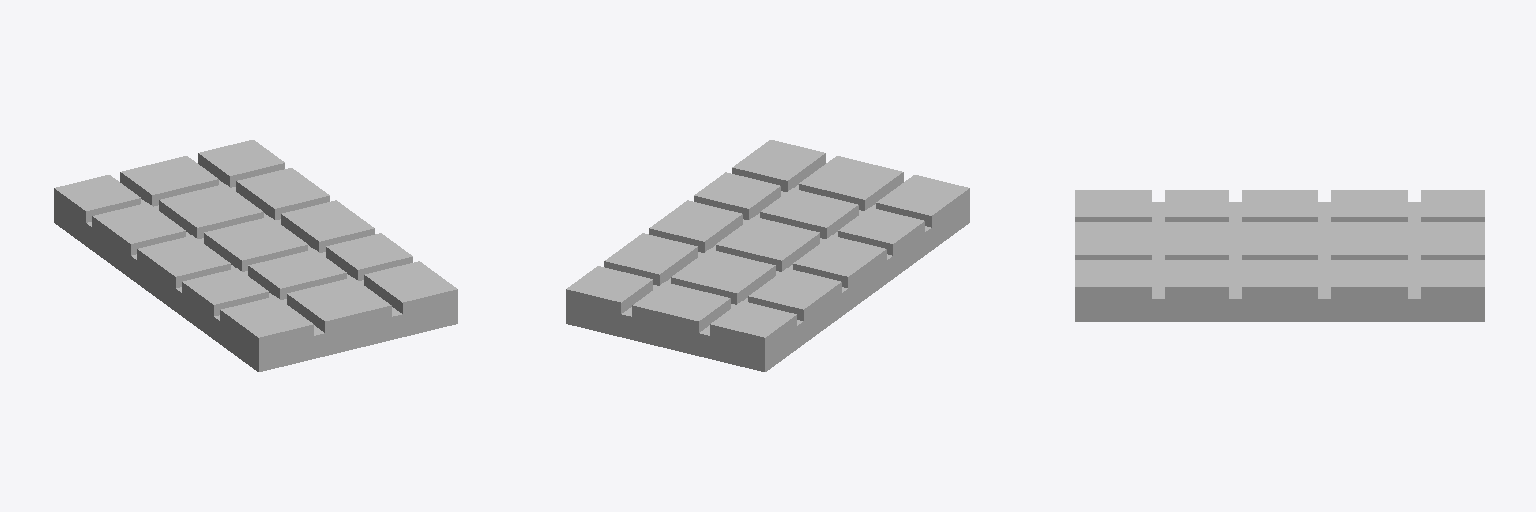
Rendered from Chocolate.obj.
3 renders of one model, left to right at view 1: azimuth 30°, elevation 25°; view 2: azimuth 150°, elevation 25°; view 3: azimuth 270°, elevation 25°, orthographic.
Parts seen in each view (by area): view 1: object 1; view 2: object 1; view 3: object 1.
Boxes of the visible parts, box(x1,y1,x2,y2) form: object 1: box(54, 140, 457, 371); object 1: box(566, 140, 969, 371); object 1: box(1075, 190, 1484, 321).
Size of the model in its own units: 1.8 by 0.3 by 3.2.